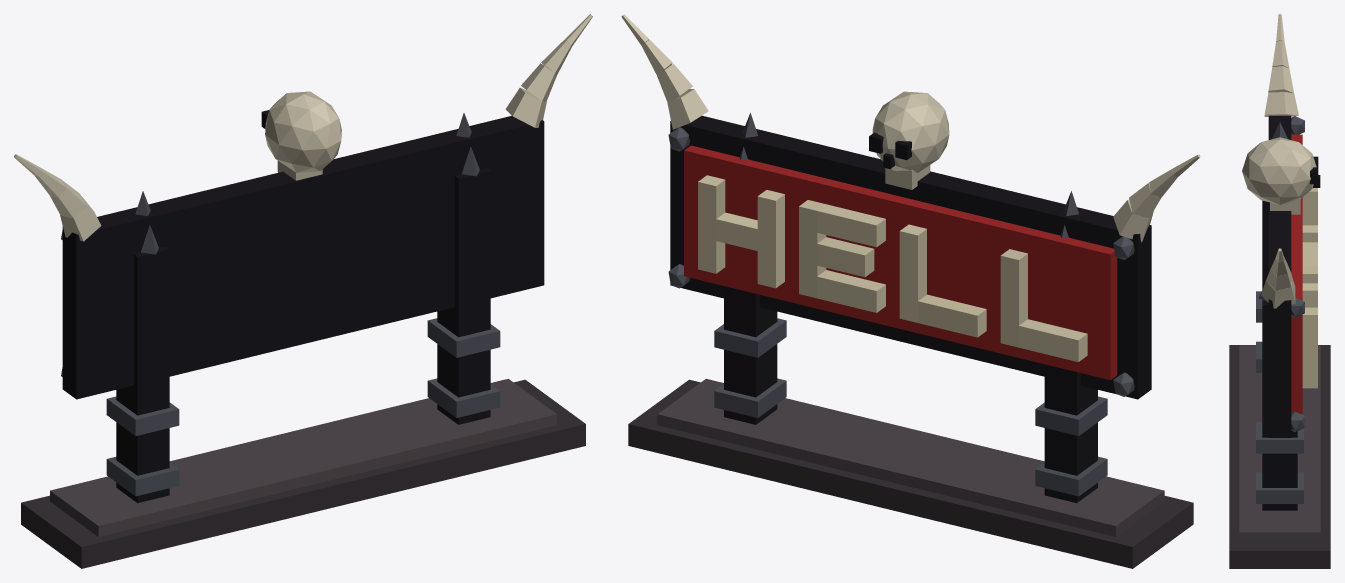
Rendered from Decor_HellGate_HellSign.fbx.
3 renders of one model, left to right at view 1: azimuth 30°, elevation 25°; view 2: azimuth 150°, elevation 25°; view 3: azimuth 270°, elevation 25°, orthographic. The views are drawn at different scales.
Parts seen in each view (by area): view 1: HellSign_Body; view 2: HellSign_Body; view 3: HellSign_Body.
Boxes of the visible parts, x1,y1,x2,y2 form: HellSign_Body: [14, 14, 592, 568]; HellSign_Body: [621, 14, 1200, 568]; HellSign_Body: [1229, 14, 1330, 568].
Size of the model in its own units: 22 by 14.58 by 4.
